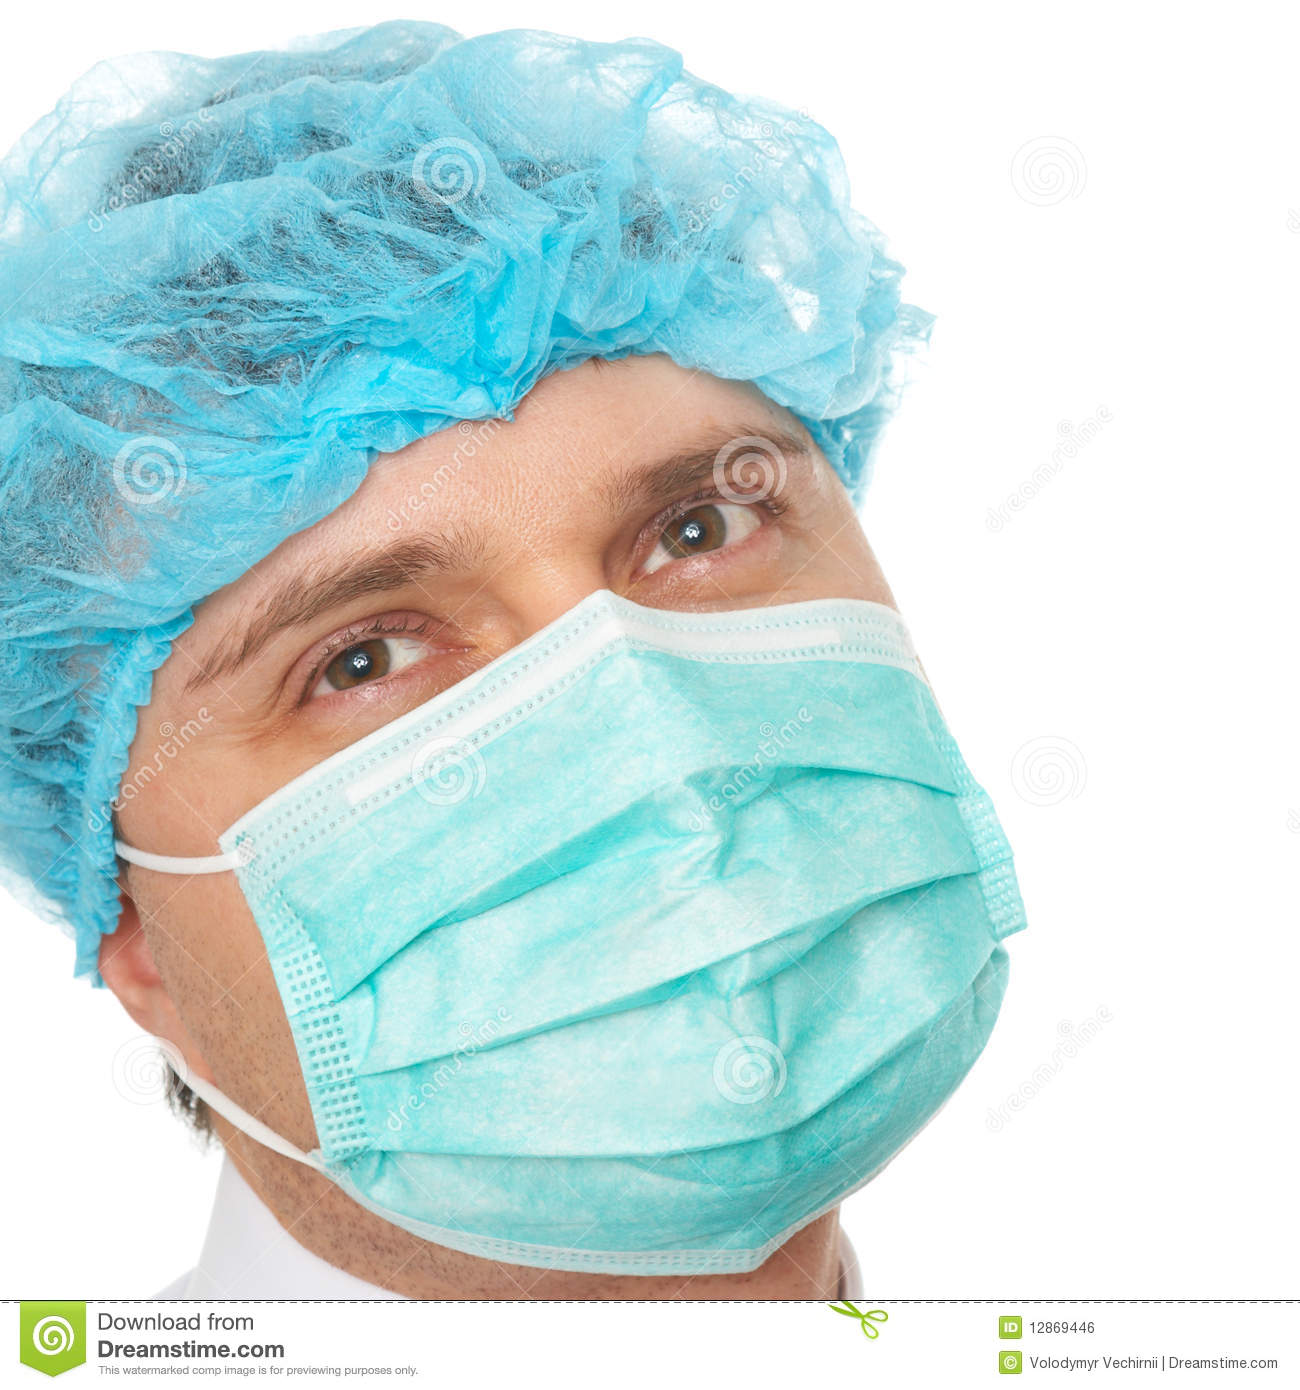mask: (177, 671, 1073, 1213)
